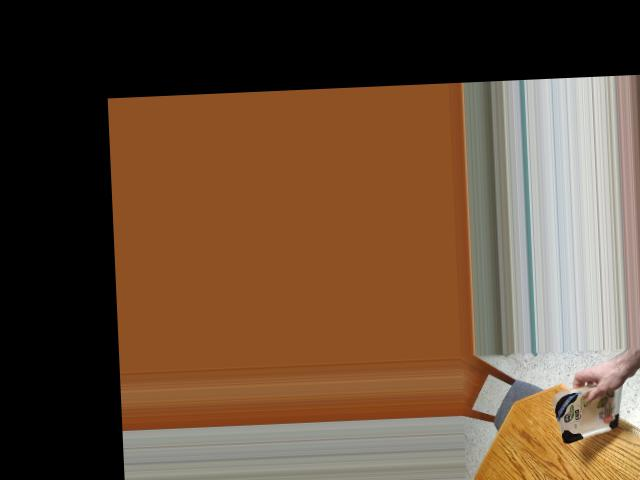cheese: (549, 384, 632, 439)
